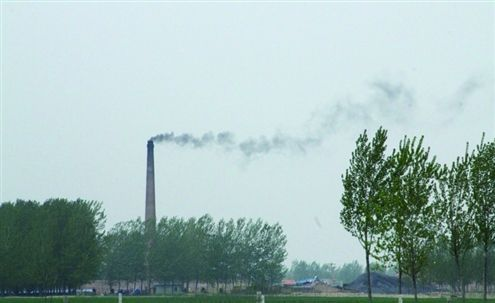dust: (138, 120, 202, 150)
